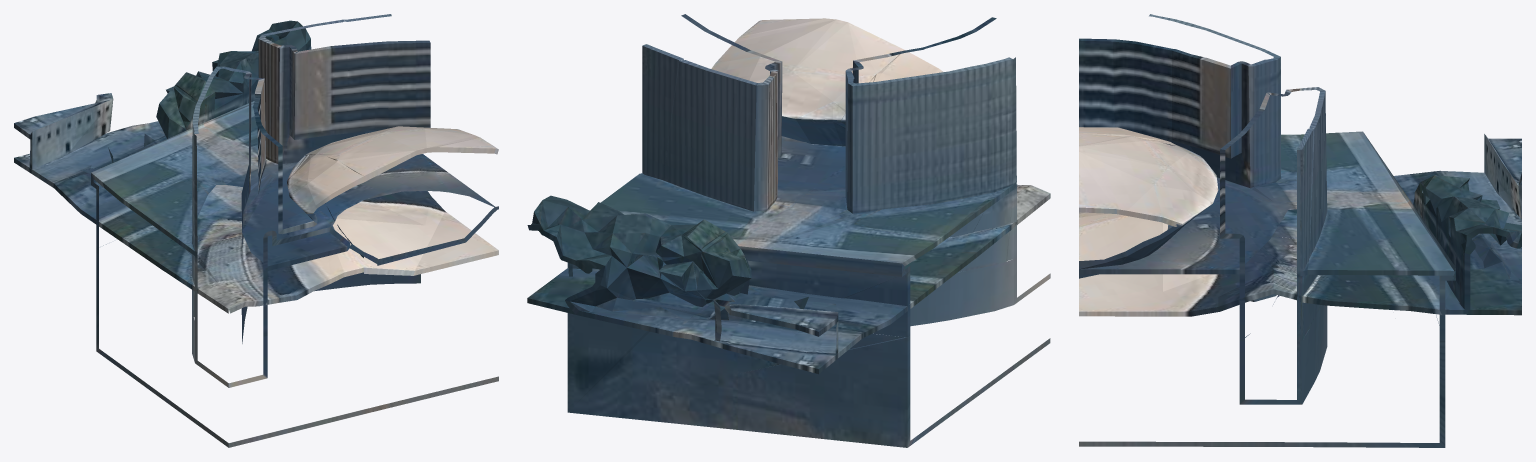
Rendered from chunk_-8_5.glb.
3 renders of one model, left to right at view 1: azimuth 30°, elevation 25°; view 2: azimuth 150°, elevation 25°; view 3: azimuth 270°, elevation 25°, orthographic. The views are drawn at different scales.
Parts seen in each view (by area): view 1: hero-chunk; view 2: hero-chunk; view 3: hero-chunk.
Part boxes in pixels (bbox=[...]): hero-chunk: bbox=[14, 14, 498, 447]; hero-chunk: bbox=[527, 14, 1050, 447]; hero-chunk: bbox=[1079, 14, 1521, 447].
Bounding box in the file's own units: 55.73 × 56.8 × 76.33.
2 materials, 2 textured.
